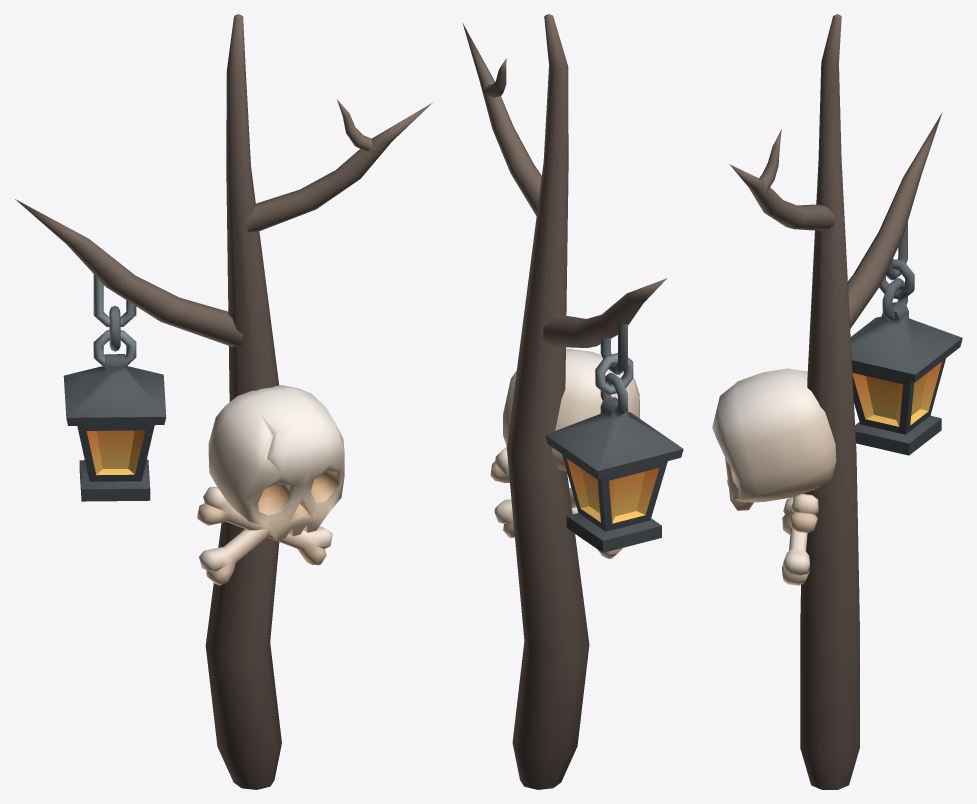
Rendered from cc0-tree-decorated-lod0.glb.
3 renders of one model, left to right at view 1: azimuth 30°, elevation 25°; view 2: azimuth 150°, elevation 25°; view 3: azimuth 270°, elevation 25°, orthographic.
Visible parts, largest first — view 1: part_0; view 2: part_0; view 3: part_0.
Part boxes in pixels (x1=…): part_0: x1=15, y1=14, x2=432, y2=789; part_0: x1=462, y1=14, x2=683, y2=789; part_0: x1=712, y1=14, x2=962, y2=789.
Bounding box in the file's own units: 2.3 × 5.42 × 1.61.
1 material, 1 textured.
